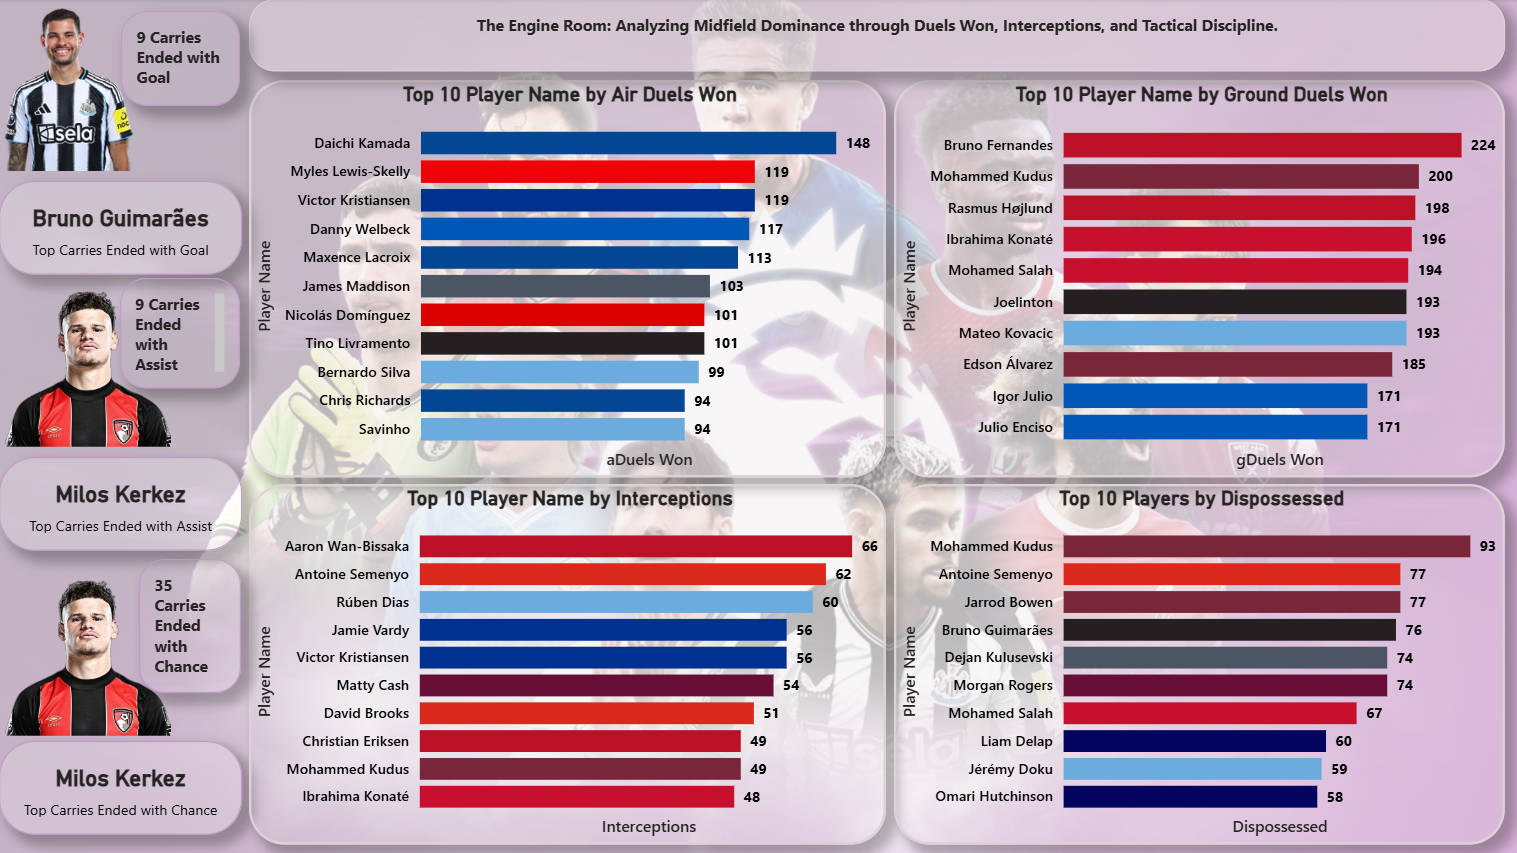

Layout of this report page (visuals, bound fields, positions):
{"tool":"powerbi","page":{"name":"Midfielder2 Performance Summary","canvas":[1280,720],"ordinal":5},"visuals":[{"type":"card","fields":{"Values":["epl_player_stats_24_25.Top Carries Ended with Goal"]},"box":[0,153.1,205.1,78.8],"z":0},{"type":"card","fields":{"Values":["epl_player_stats_24_25.Top Carries Ended with Assist"]},"box":[0,386,205.1,78.8],"z":1000},{"type":"card","fields":{"Values":["epl_player_stats_24_25.Top Carries Ended with Chance"]},"box":[0,626,205.1,78.8],"z":2000},{"type":"clusteredBarChart","title":"Top 10 Player Name by Air Duels Won","fields":{"Category":["epl_player_stats_24_25.Player Name"],"Y":["Sum(epl_player_stats_24_25.aDuels Won)"]},"box":[210.4,68.1,537.3,334.9],"z":3000},{"type":"clusteredBarChart","title":"Top 10 Player Name by Interceptions","fields":{"Category":["epl_player_stats_24_25.Player Name"],"Y":["Sum(epl_player_stats_24_25.Interceptions)"]},"box":[210.4,409.3,537.3,303.6],"z":4000},{"type":"clusteredBarChart","title":"Top 10 Player Name by Ground Duels Won","fields":{"Category":["epl_player_stats_24_25.Player Name"],"Y":["Sum(epl_player_stats_24_25.gDuels Won)"]},"box":[754.9,68.1,514.9,334.9],"z":5000},{"type":"clusteredBarChart","title":"Top 10 Players by Dispossessed","fields":{"Category":["epl_player_stats_24_25.Player Name"],"Y":["Sum(epl_player_stats_24_25.Dispossessed)"]},"box":[754.9,409.3,514.9,303.6],"z":6000},{"type":"textbox","box":[210.4,0,1059.4,60.9],"z":7000},{"type":"textbox","box":[103,9.9,100.3,79.7],"z":8000},{"type":"textbox","box":[102.1,235.5,101.2,93.1],"z":9000},{"type":"textbox","box":[117.7,471.7,85.6,112.8],"z":10000},{"type":"image","box":[0,0,117.7,152.7],"z":11000},{"type":"image","box":[0,228.6,149.8,157.6],"z":12000},{"type":"image","box":[0,471.7,149.8,157.6],"z":13000}]}

Visuals, with their boxes in screenshot pixels (x1, y1, x2, y2), scaled from the page's 1280x720 canvas onto the 1517x853 screenshot:
card - epl_player_stats_24_25.Top Carries Ended with Goal: (0, 181, 243, 275)
card - epl_player_stats_24_25.Top Carries Ended with Assist: (0, 457, 243, 551)
card - epl_player_stats_24_25.Top Carries Ended with Chance: (0, 742, 243, 835)
"Top 10 Player Name by Air Duels Won" clusteredBarChart: (249, 81, 886, 477)
"Top 10 Player Name by Interceptions" clusteredBarChart: (249, 485, 886, 845)
"Top 10 Player Name by Ground Duels Won" clusteredBarChart: (895, 81, 1505, 477)
"Top 10 Players by Dispossessed" clusteredBarChart: (895, 485, 1505, 845)
textbox: (249, 0, 1505, 72)
textbox: (122, 12, 241, 106)
textbox: (121, 279, 241, 389)
textbox: (139, 559, 241, 692)
image: (0, 0, 139, 181)
image: (0, 271, 178, 458)
image: (0, 559, 178, 746)
